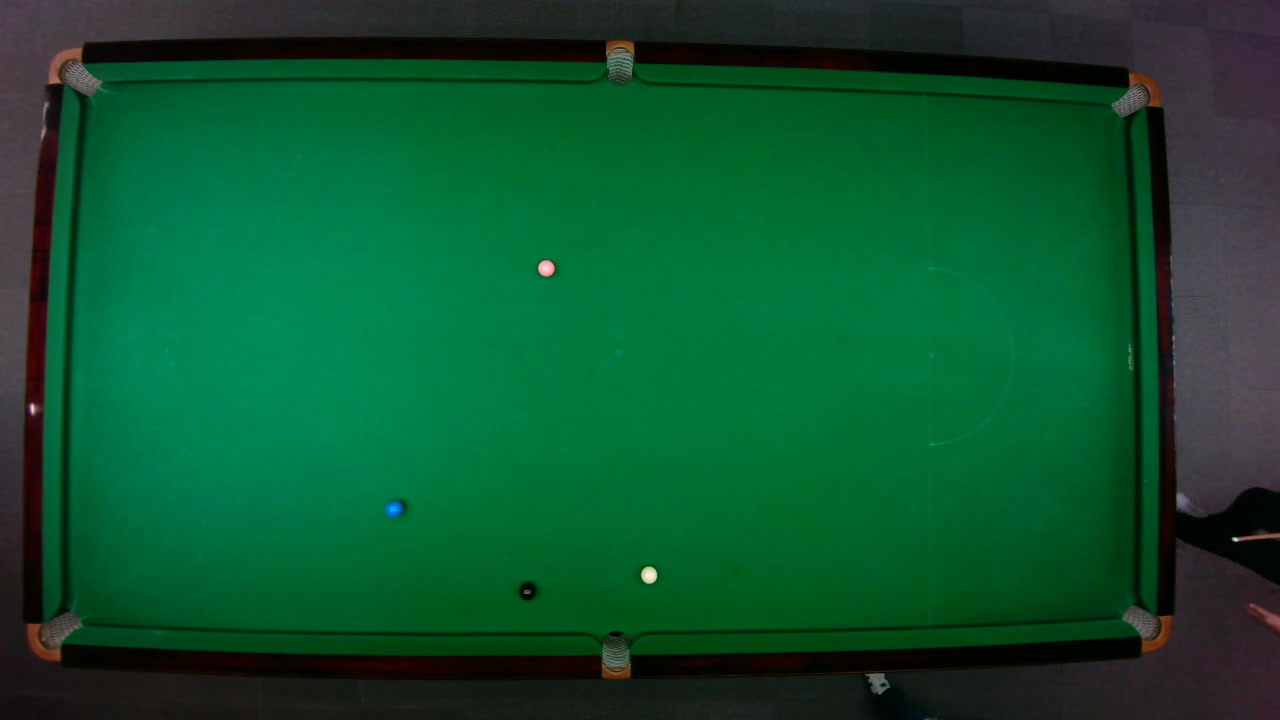bag: (25, 609, 83, 661), (46, 46, 102, 97), (1119, 603, 1172, 653), (1108, 71, 1162, 118), (601, 629, 630, 680), (605, 38, 633, 85)
black: (518, 581, 536, 601)
blue: (384, 498, 404, 517)
cue: (1231, 526, 1280, 550)
pink: (536, 258, 555, 277)
white: (638, 564, 658, 584)
zone: (927, 265, 1013, 445)
